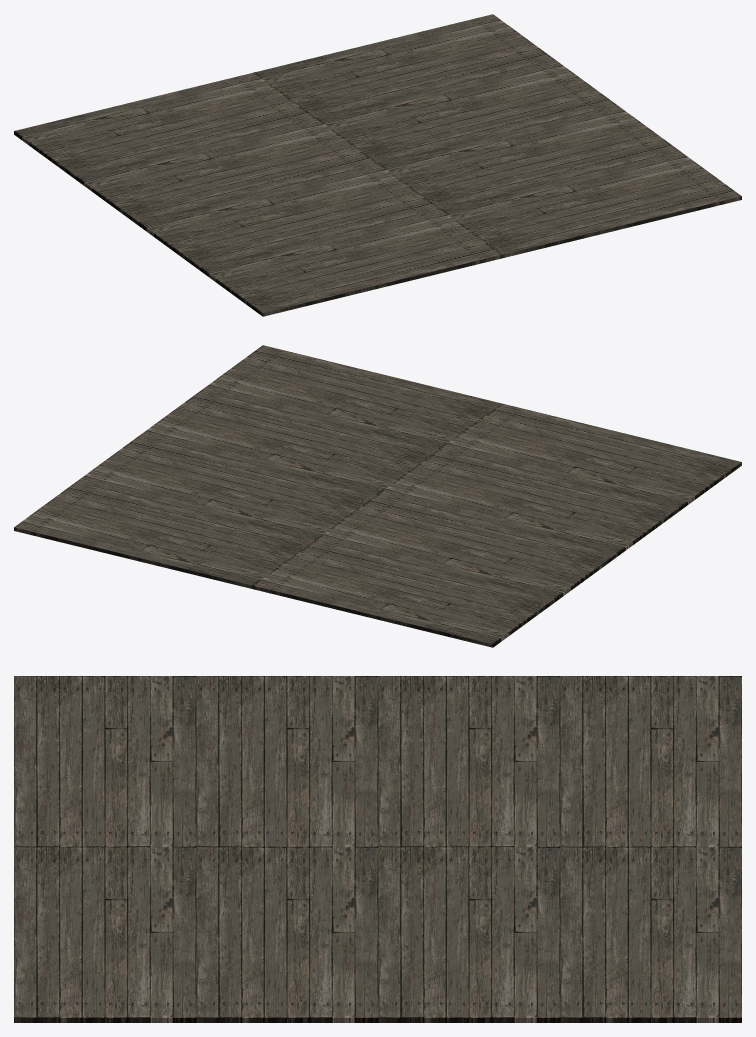
File: colonial-wharf-pier-finger.glb
3 renders of one model, top to bottom at view 1: azimuth 30°, elevation 25°; view 2: azimuth 150°, elevation 25°; view 3: azimuth 270°, elevation 25°, orthographic. The views are drawn at different scales.
Visible parts, largest first — view 1: colonial-wharf-pier-finger.glb; view 2: colonial-wharf-pier-finger.glb; view 3: colonial-wharf-pier-finger.glb.
Boxes of the visible parts, box(x1,y1,x2,y2) form: colonial-wharf-pier-finger.glb: box(14, 14, 741, 316); colonial-wharf-pier-finger.glb: box(14, 345, 741, 647); colonial-wharf-pier-finger.glb: box(14, 676, 741, 1022).
Size of the model in its own units: 10 by 0.0766 by 9.
1 material, 1 textured.
